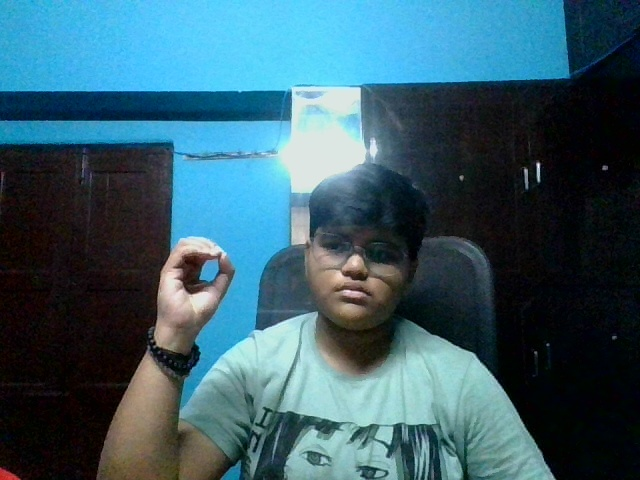O: (149, 231, 239, 338)
